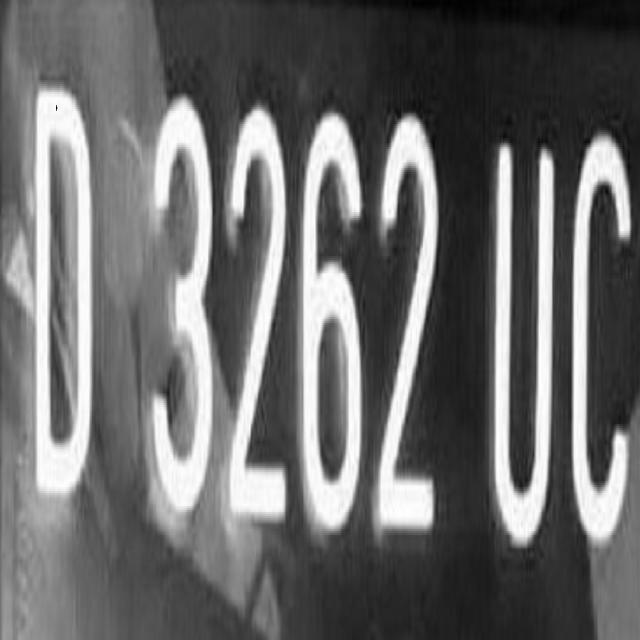2: (370, 100, 450, 540), (220, 105, 290, 530)
3: (140, 70, 214, 526)
6: (290, 108, 364, 542)
C: (558, 128, 640, 558)
D: (28, 73, 106, 514)
U: (483, 125, 559, 558)
